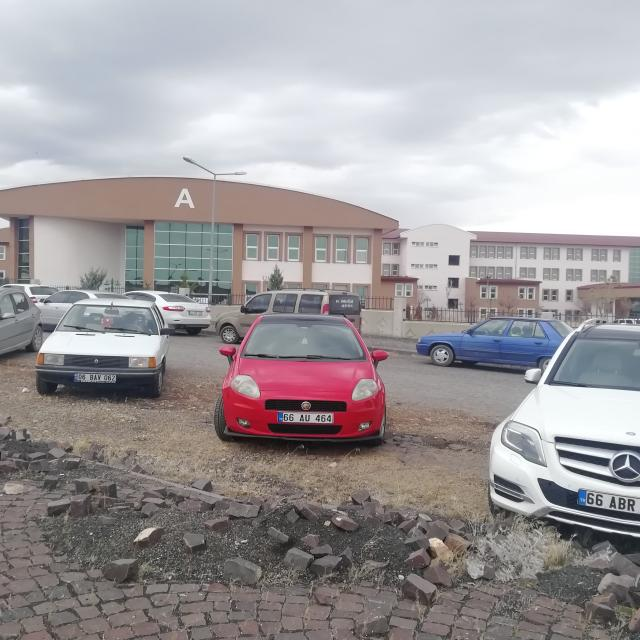license_plate: (578, 489, 640, 518), (278, 412, 332, 422), (74, 374, 116, 382)
